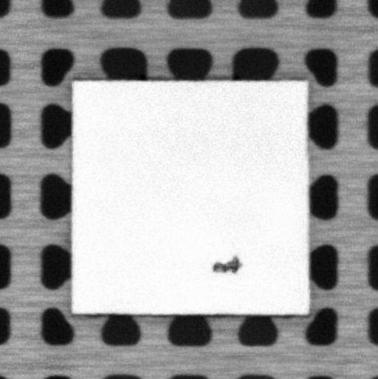DIE_INK: (212, 255, 241, 274)
